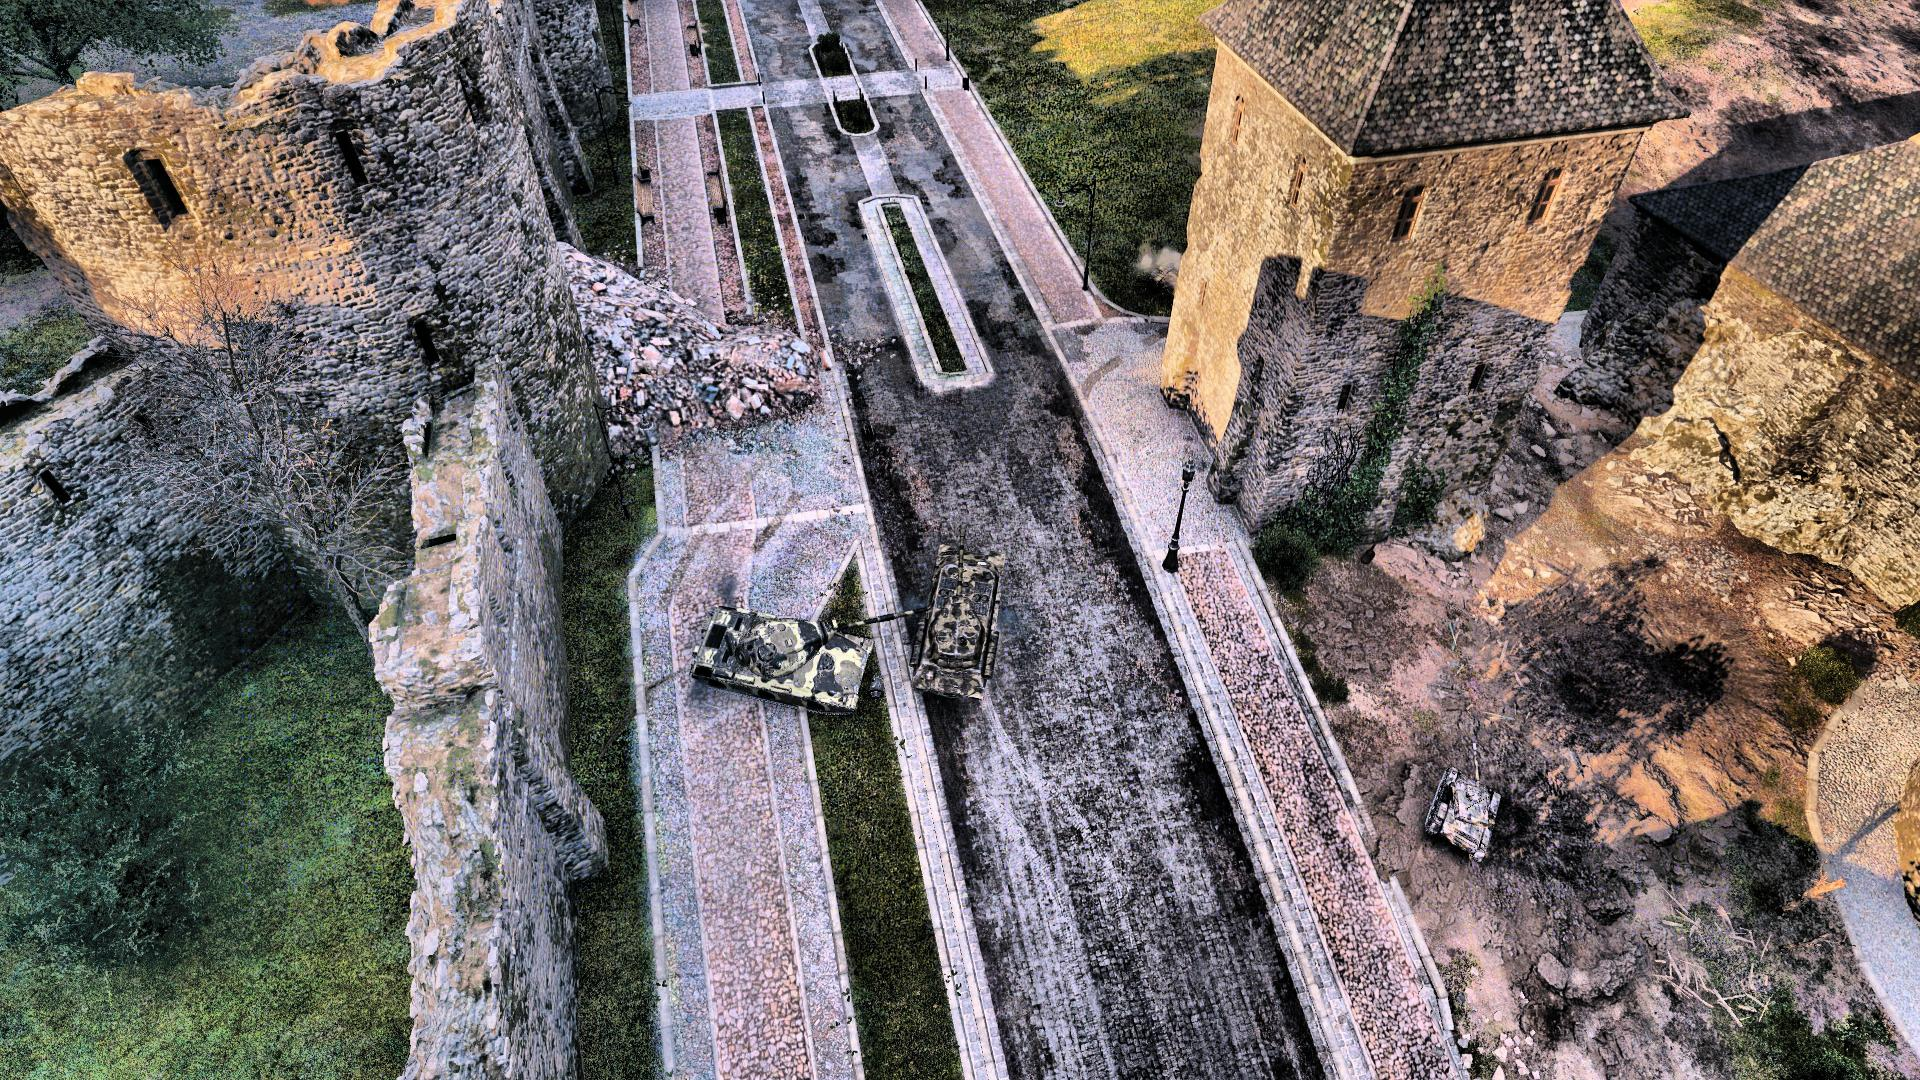military-vehicle: (696, 587, 932, 713), (911, 525, 1011, 707), (1425, 737, 1502, 861)
